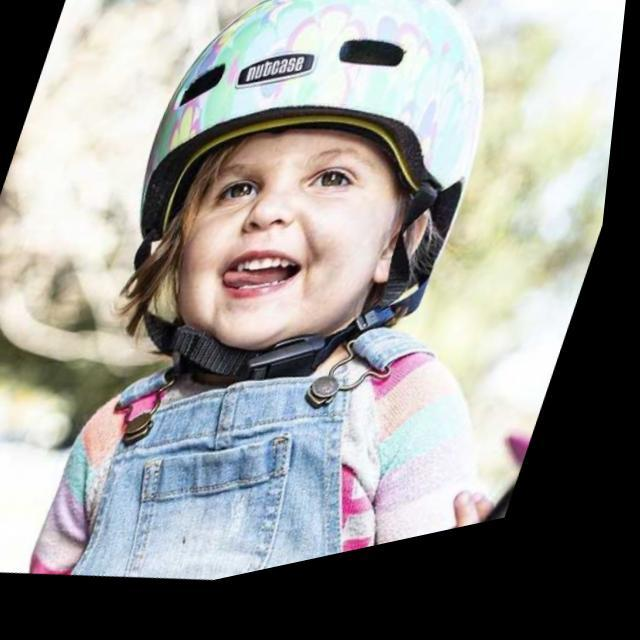Helmet: (112, 0, 487, 355)
